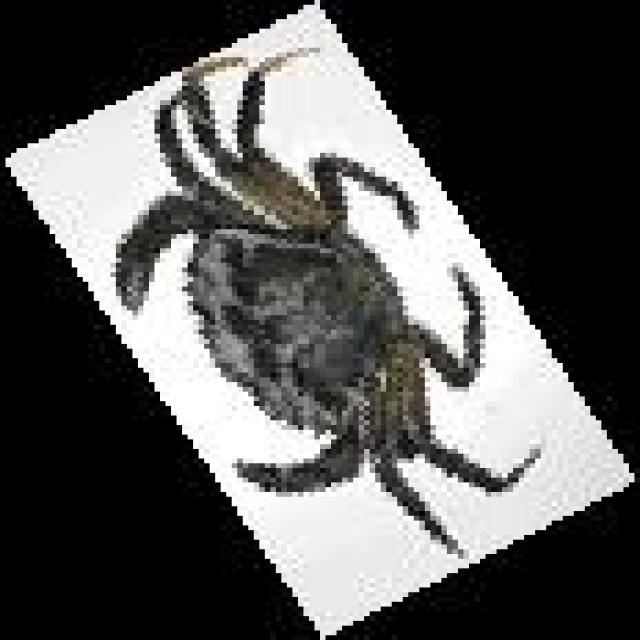European Green crab: (116, 48, 535, 549)
